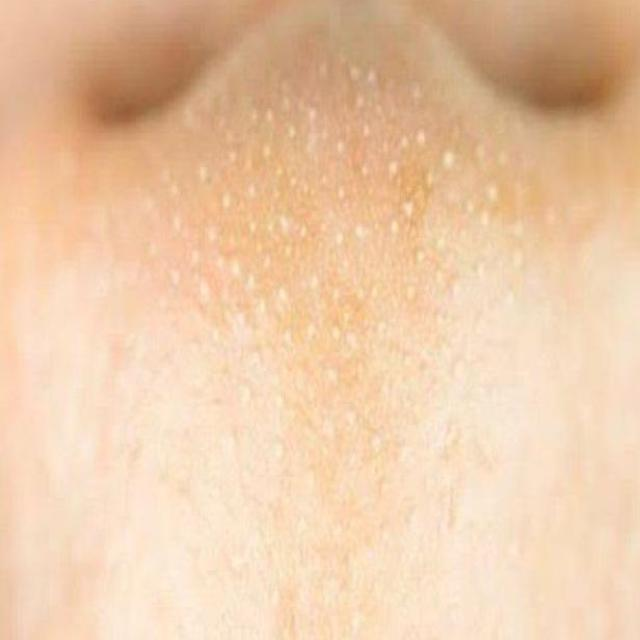whitehead: (126, 25, 620, 492)
